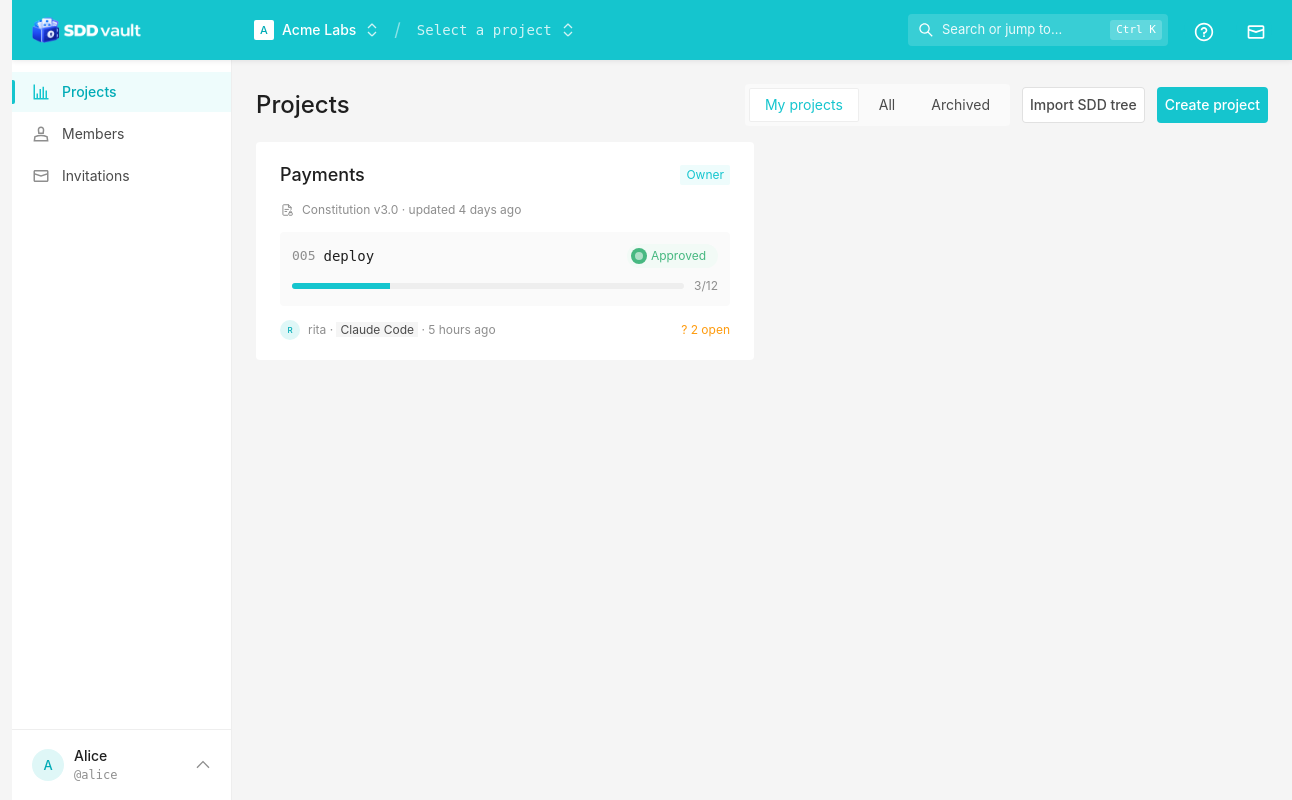
Test case: a project card shows its role, constitution, active spec, progress, last activity and markers
Expected: the text "Owner" is shown, [680,165,730,185]
Expected: the text "Constitution v3.0 · updated 4 days ago" is shown, [302,202,521,218]
Hover over the text "? 2 open" at (706, 330), box [681,321,730,339]
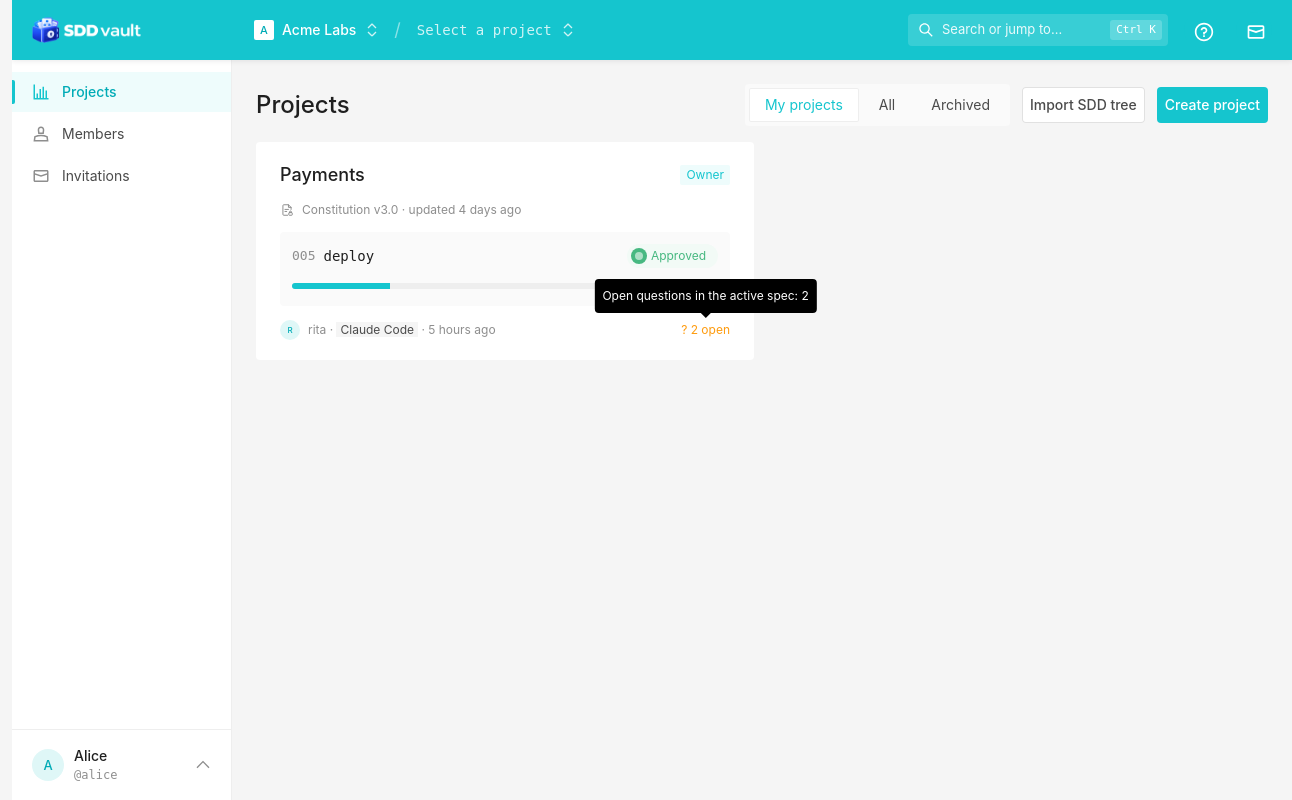
Expected: the tooltip reads "Open questions in the active spec: 2", [602,288,809,303]
